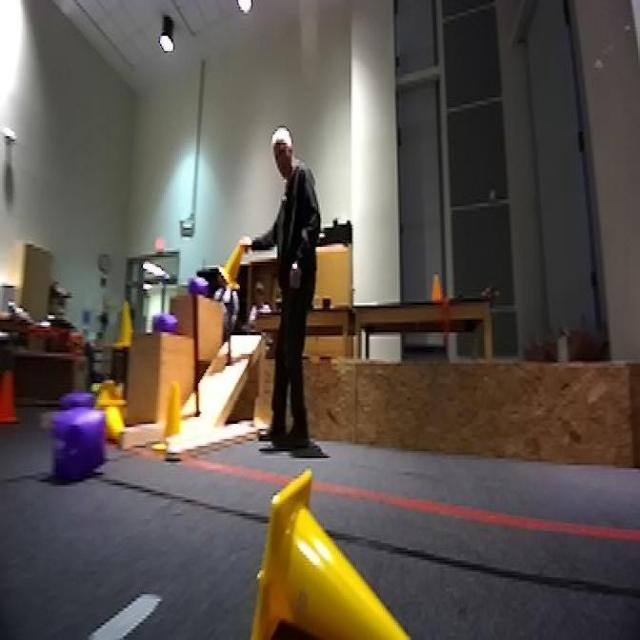frc_cone: (251, 454, 441, 630), (155, 380, 185, 451), (214, 240, 252, 291), (112, 300, 138, 352), (105, 395, 128, 439), (93, 374, 124, 402)
frc_cube: (53, 408, 106, 488), (151, 308, 181, 332), (60, 391, 92, 412), (184, 274, 208, 298)
